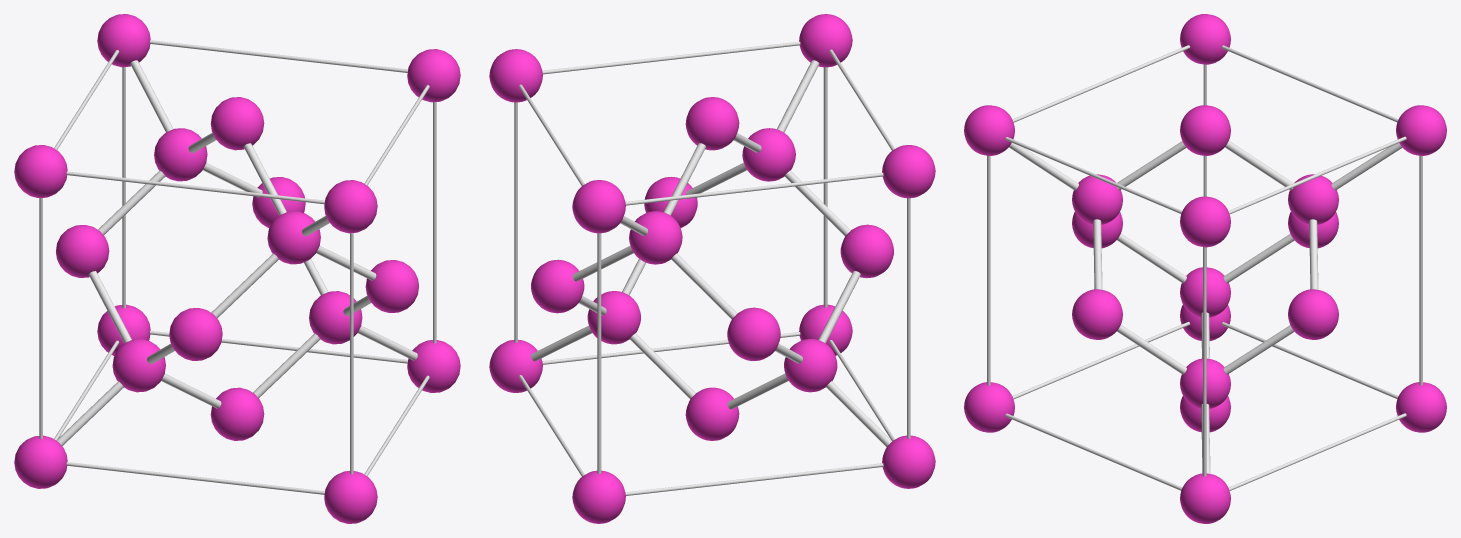
3 renders of one model, left to right at view 1: azimuth 30°, elevation 25°; view 2: azimuth 150°, elevation 25°; view 3: azimuth 270°, elevation 25°, orthographic. The views are drawn at different scales.
Parts seen in each view (by area): view 1: jiaoone, anglefive, jiaoseven, jiaothree, jiaotwo, angleone, anglesix, jiaoeight, anglethree, angletwo, jiaosix, jiaofive (+28 smaller); view 2: anglesix, jiaosix, jiaoseven, jiaofour, jiaotwo, angleone, anglefive, jiaoeight, anglefour, anglethree, jiaoone, sphere (+29 smaller); view 3: angleone, anglefour, angletwo, jiaoeight, jiaofive, jiaoone, jiaosix, jiaothree, jiaofour, jiaoseven, sphere, sphere4 (+27 smaller).
Boxes of the visible parts, bbox=[...] form: jiaoone: bbox=[324, 180, 377, 233]; anglefive: bbox=[169, 308, 222, 360]; jiaoseven: bbox=[14, 145, 67, 197]; jiaothree: bbox=[324, 471, 377, 523]; jiaotwo: bbox=[14, 435, 67, 488]; angleone: bbox=[210, 97, 264, 150]; anglesix: bbox=[56, 225, 109, 277]; jiaoeight: bbox=[407, 49, 460, 102]; anglethree: bbox=[210, 387, 264, 440]; angletwo: bbox=[365, 260, 418, 312]; jiaosix: bbox=[97, 14, 150, 67]; jiaofive: bbox=[407, 340, 460, 392]; anglesix: bbox=[727, 307, 780, 360]; jiaosix: bbox=[572, 180, 625, 233]; jiaoseven: bbox=[882, 145, 935, 198]; jiaofour: bbox=[572, 470, 625, 523]; jiaotwo: bbox=[882, 435, 935, 488]; angleone: bbox=[685, 97, 739, 150]; anglefive: bbox=[840, 224, 893, 278]; jiaoeight: bbox=[489, 49, 542, 102]; anglefour: bbox=[531, 259, 584, 313]; anglethree: bbox=[685, 387, 739, 440]; jiaoone: bbox=[799, 14, 852, 67]; sphere: bbox=[742, 128, 795, 181]; angleone: bbox=[1180, 105, 1230, 155]; anglefour: bbox=[1288, 289, 1338, 339]; angletwo: bbox=[1072, 289, 1122, 339]; jiaoeight: bbox=[1180, 196, 1230, 247]; jiaofive: bbox=[1180, 473, 1230, 523]; jiaoone: bbox=[964, 105, 1014, 155]; jiaosix: bbox=[1396, 105, 1446, 155]; jiaothree: bbox=[964, 382, 1014, 432]; jiaofour: bbox=[1396, 382, 1446, 432]; jiaoseven: bbox=[1180, 14, 1230, 64]; sphere: bbox=[1072, 174, 1122, 224]; sphere4: bbox=[1288, 174, 1338, 224].
Bounding box in the file's own units: 72.42 × 53.45 × 72.42.
